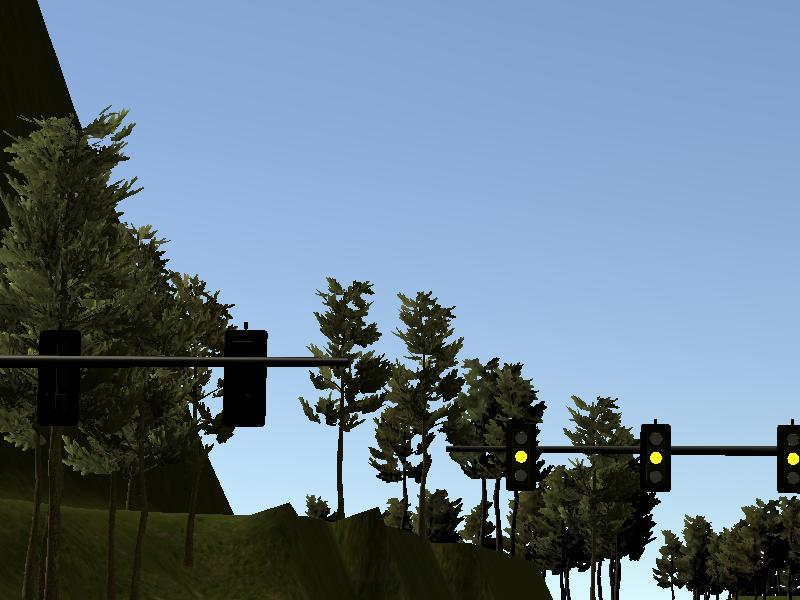Yellow: (641, 424, 671, 491), (506, 424, 536, 490), (777, 425, 800, 493)
